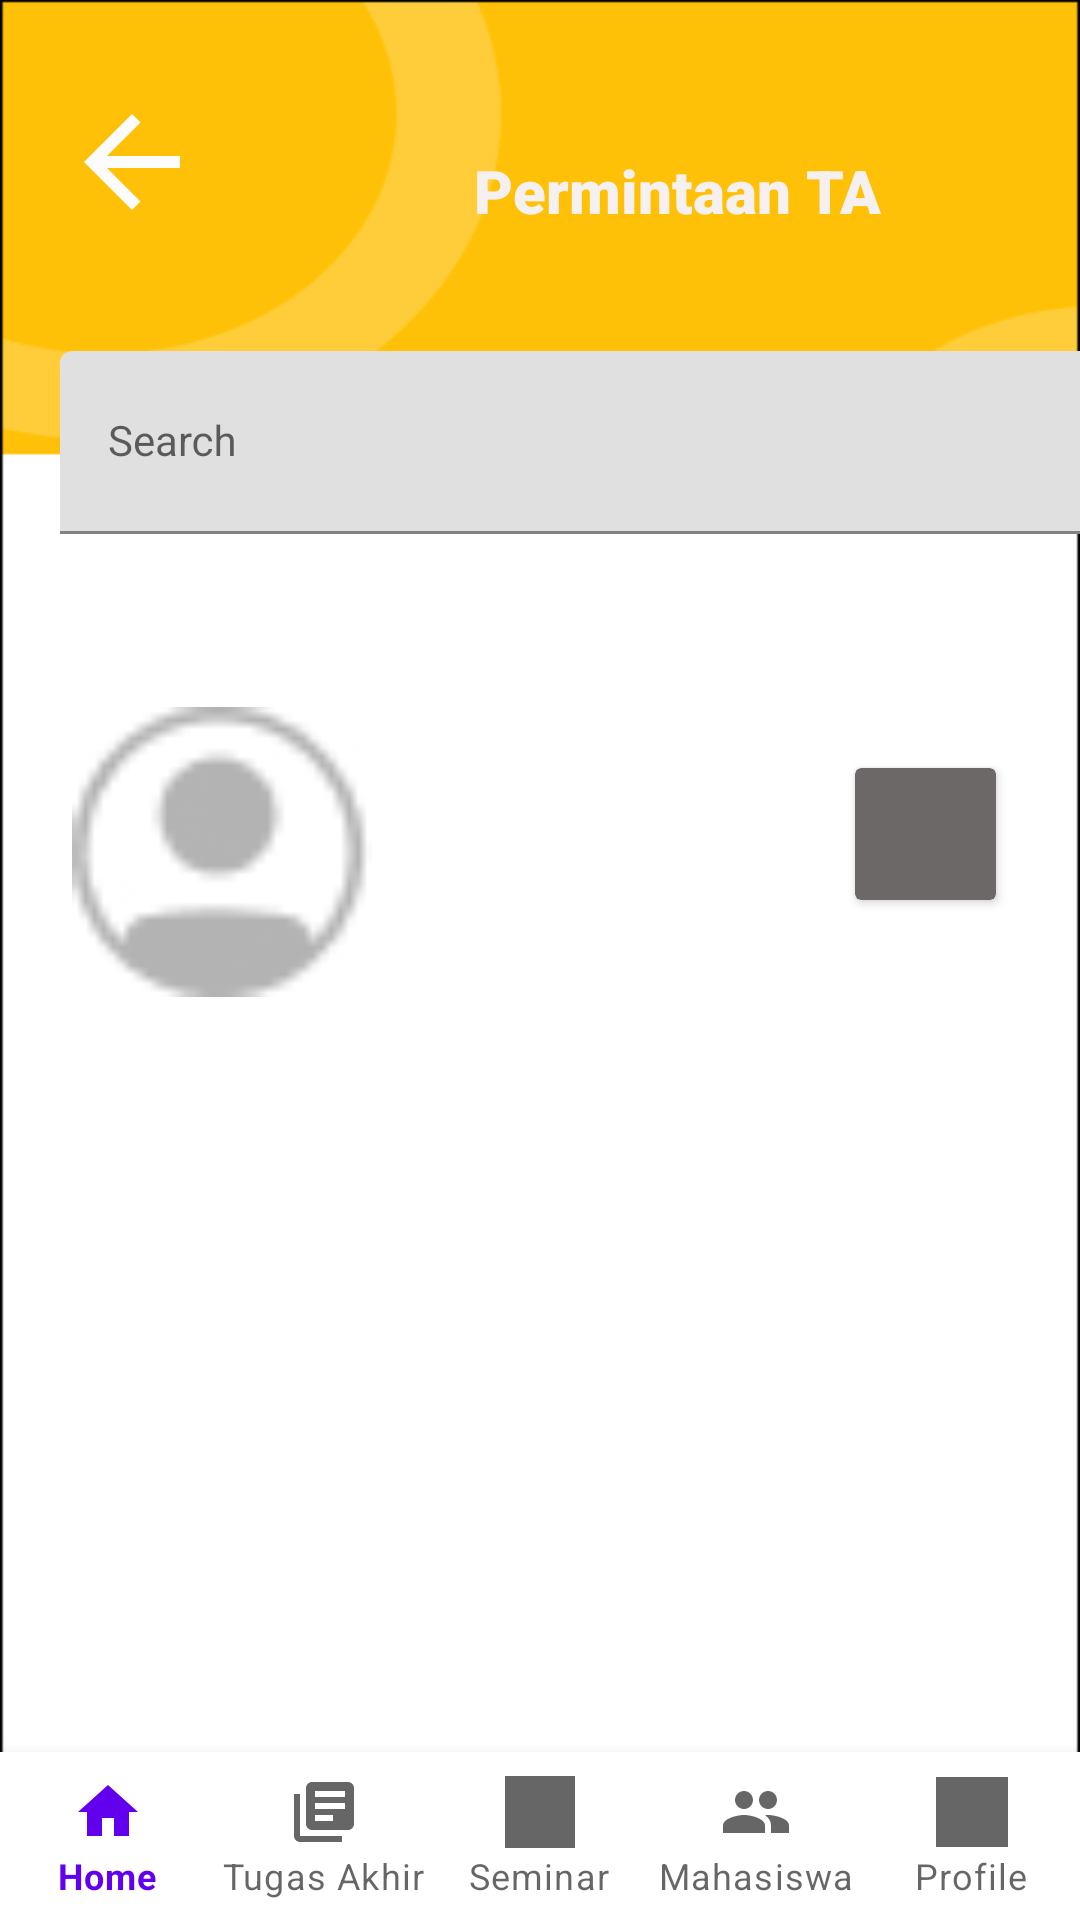

Icon bounding boxes for this 1080*1920 phone screenshot, format (x1, y1, x2, y2):
arrow left: (84, 114, 180, 210)
profile: (72, 707, 365, 997)
